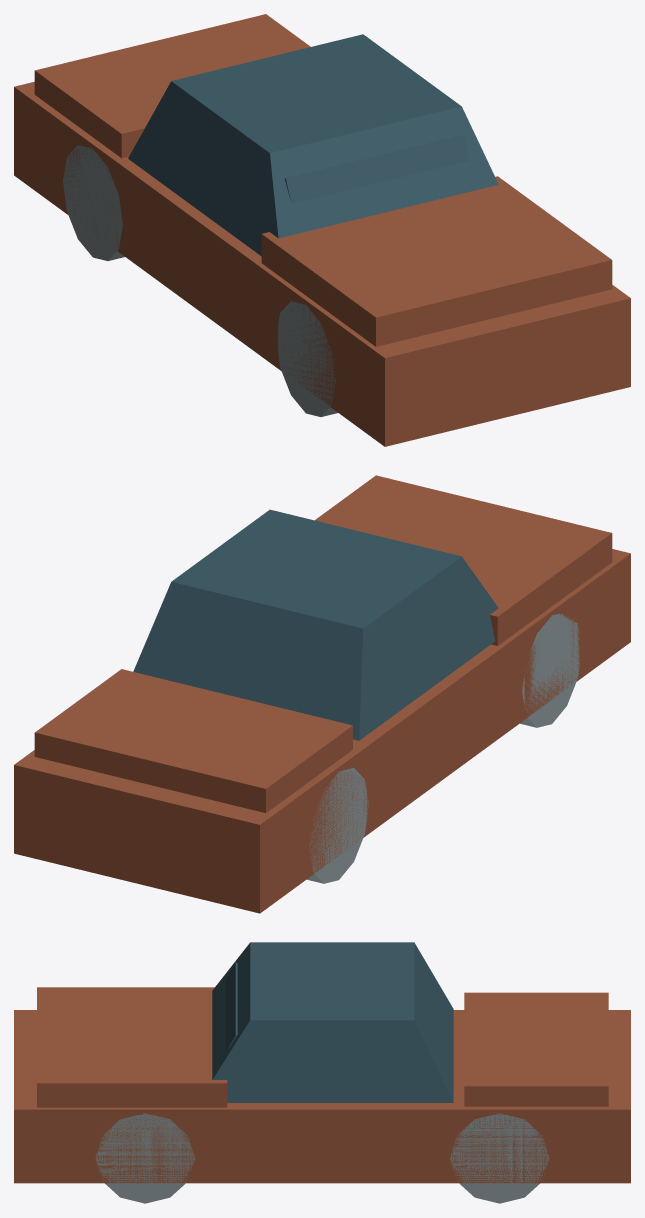
File: car-sedan.glb
3 views of the same model, one above another, from view 1: azimuth 30°, elevation 25°; view 2: azimuth 150°, elevation 25°; view 3: azimuth 270°, elevation 25° (orthographic). The views are drawn at different scales.
Visible parts, largest first — view 1: car-lower-body, car-cabin, car-hood, car-boot, car-wheel-03, car-wheel-01, car-front-glass-cue; view 2: car-lower-body, car-cabin, car-boot, car-hood, car-wheel-03, car-wheel-01; view 3: car-lower-body, car-cabin, car-hood, car-boot, car-wheel-04, car-wheel-02, car-front-glass-cue.
Part boxes in pixels (<box>): car-lower-body: <box>14,82,630,446</box>; car-cabin: <box>128,34,498,256</box>; car-hood: <box>261,176,612,346</box>; car-boot: <box>34,14,310,158</box>; car-wheel-03: <box>63,145,124,260</box>; car-wheel-01: <box>276,301,337,416</box>; car-front-glass-cue: <box>285,135,469,203</box>; car-lower-body: <box>14,549,630,913</box>; car-cabin: <box>133,509,498,740</box>; car-boot: <box>34,669,352,813</box>; car-hood: <box>315,475,612,645</box>; car-wheel-03: <box>307,768,368,883</box>; car-wheel-01: <box>520,613,579,727</box>; car-lower-body: <box>14,1010,630,1183</box>; car-cabin: <box>212,942,453,1102</box>; car-hood: <box>37,987,227,1107</box>; car-boot: <box>464,992,608,1106</box>; car-wheel-04: <box>450,1113,549,1203</box>; car-wheel-02: <box>95,1113,194,1203</box>; car-front-glass-cue: <box>226,962,237,1051</box>.
Size of the model in its own units: 1.8 by 1.45 by 4.7.
